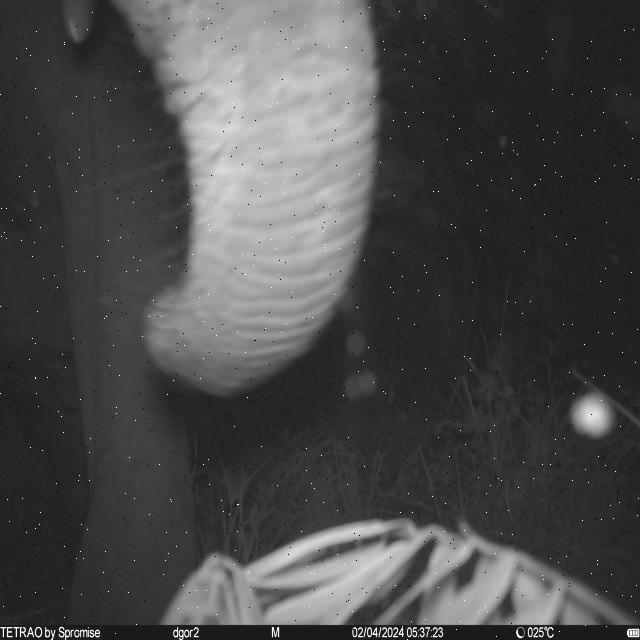elephant: (1, 0, 382, 623)
tusk: (62, 0, 98, 46)
